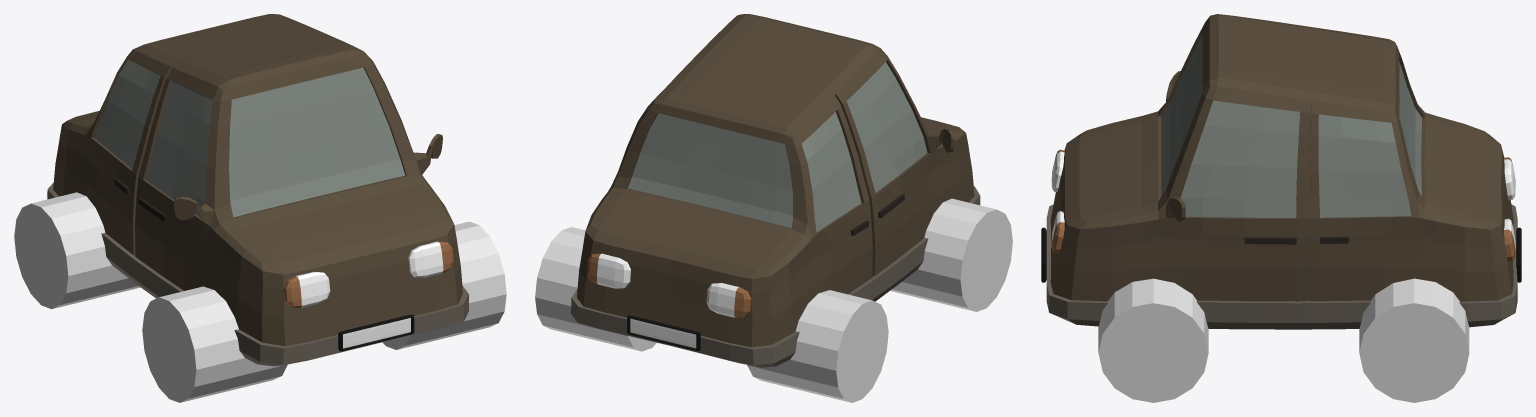
The model's file is car2.fbx.
3 renders of one model, left to right at view 1: azimuth 30°, elevation 25°; view 2: azimuth 150°, elevation 25°; view 3: azimuth 270°, elevation 25°, orthographic. The views are drawn at different scales.
Parts seen in each view (by area): view 1: Cube, Cylinder.002, Cylinder.003, Cylinder, Cube.001, Cube.004, Cube.003; view 2: Cube, Cylinder.003, Cylinder.002, Cylinder.001, Cube.002, Cube.006, Cube.005; view 3: Cube, Cylinder, Cylinder.001, Cube.003.
Part boxes in pixels (x1,y1,x2,y2): Cube: (47,14,469,366); Cylinder.002: (142,286,287,402); Cylinder.003: (14,192,140,309); Cylinder: (383,221,506,349); Cube.001: (338,314,414,351); Cube.004: (283,272,330,307); Cube.003: (408,241,453,277); Cube: (571,14,980,367); Cylinder.003: (747,290,888,402); Cylinder.002: (890,198,1012,311); Cylinder.001: (535,227,656,351); Cube.002: (627,315,700,350); Cube.006: (706,283,751,317); Cube.005: (586,253,630,288); Cube: (1046,14,1517,329); Cylinder: (1098,278,1208,402); Cylinder.001: (1359,278,1469,402); Cube.003: (1051,211,1064,253).
Bounding box in the file's own units: 559 × 472 × 737.
